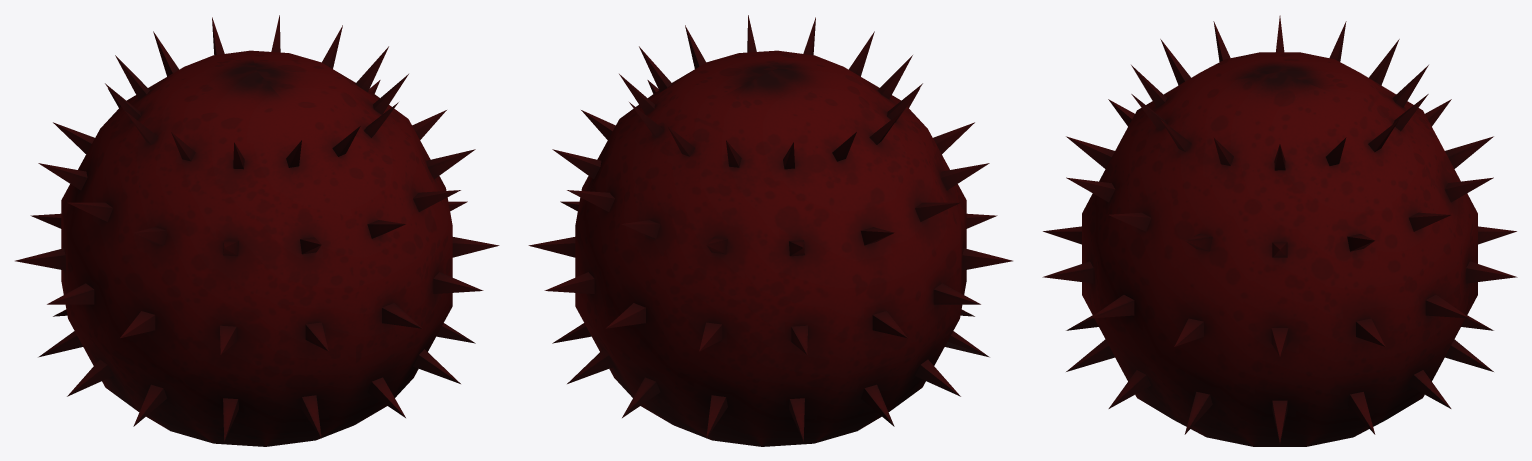
Rendered from Fruit.fbx.
3 renders of one model, left to right at view 1: azimuth 30°, elevation 25°; view 2: azimuth 150°, elevation 25°; view 3: azimuth 270°, elevation 25°, orthographic.
Visible parts, largest first — view 1: SmallFruit; view 2: SmallFruit; view 3: SmallFruit.
Part boxes in pixels (x1,y1,x2,y2): SmallFruit: (15,15,499,446); SmallFruit: (528,15,1012,446); SmallFruit: (1042,15,1517,446).
Bounding box in the file's own units: 14.47 × 11.69 × 14.11.
